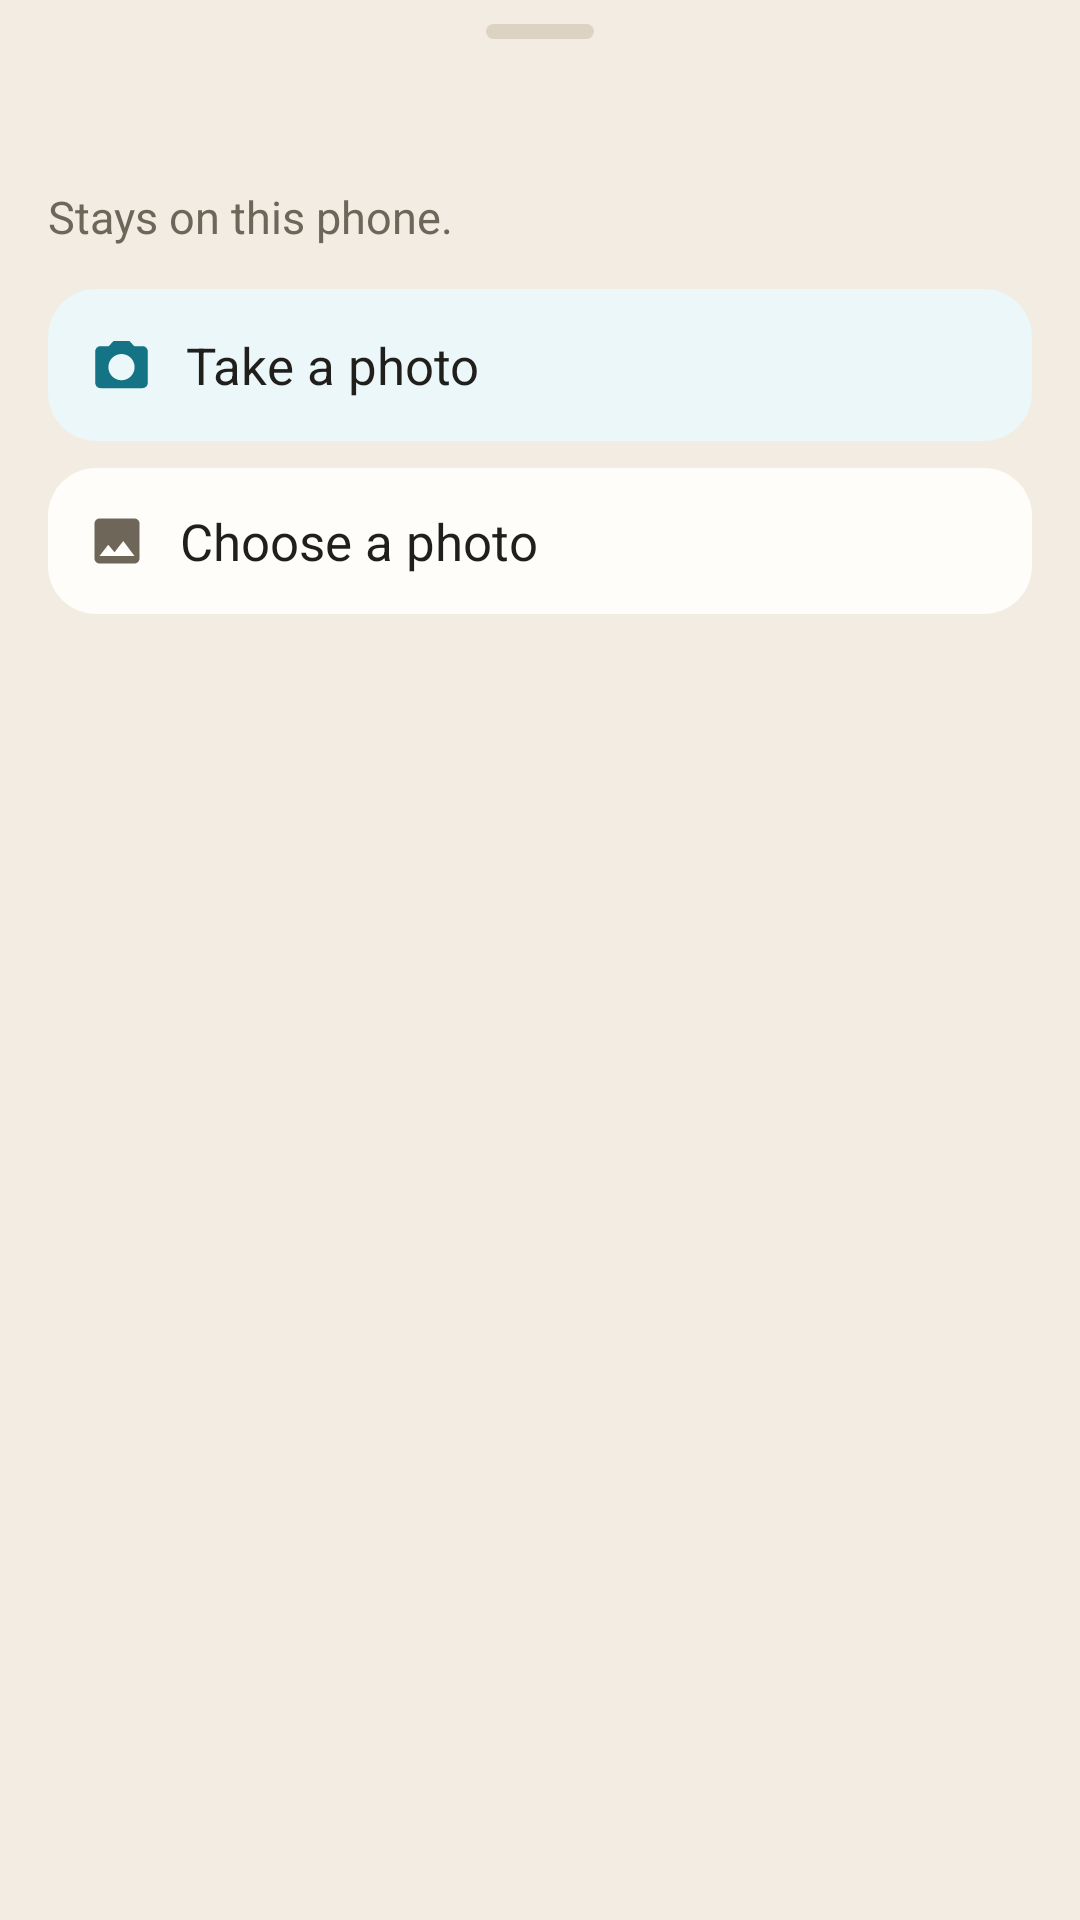

Locate icon controls on the screen. Image size 1080 x 1920, boxes as (x1, y1, x2, y2).
camera: (95, 341, 148, 389)
